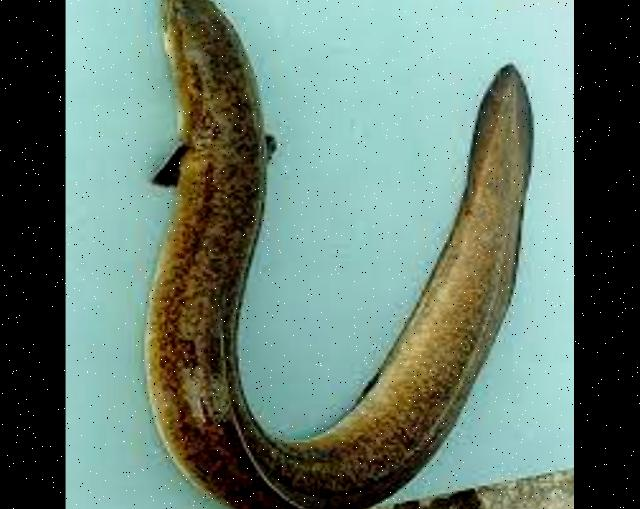Sirip Ekor: (440, 34, 553, 229)
